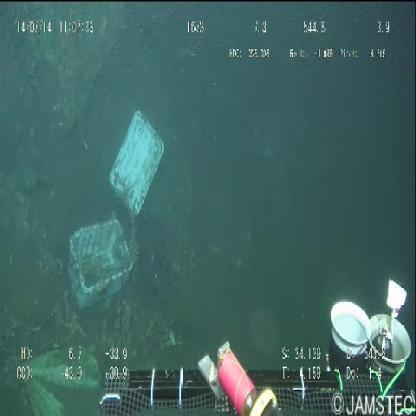Rov: (89, 276, 415, 414)
Rác: (66, 88, 168, 319)
